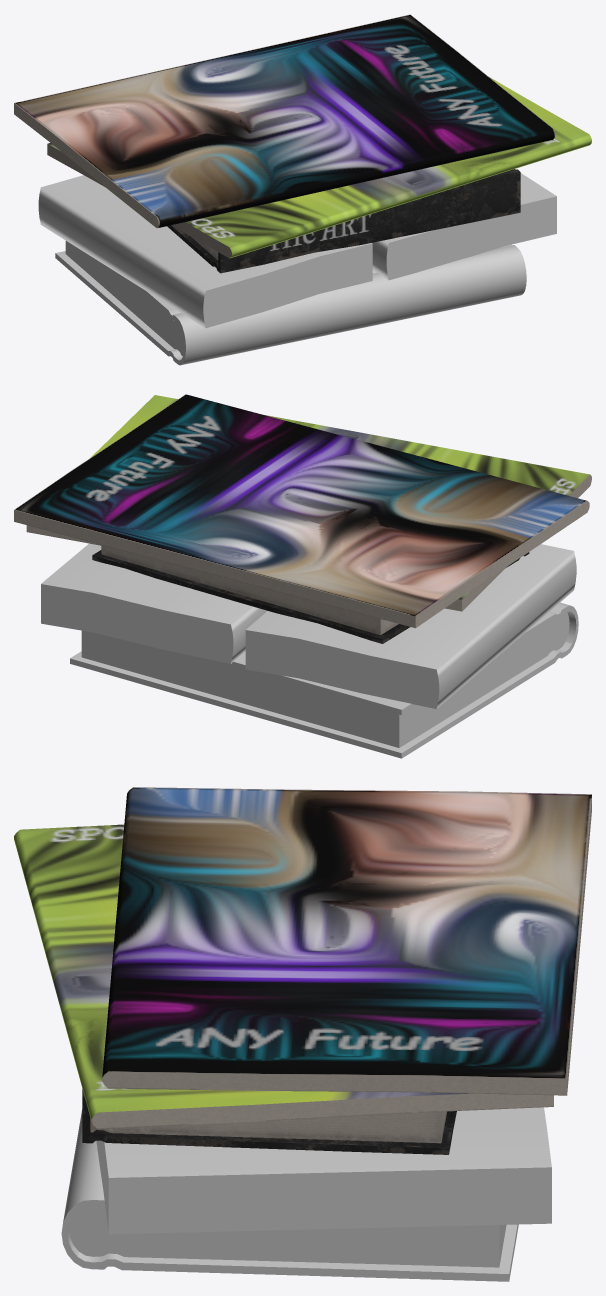
Rendered from SM_Book_Stack_04.FBX.
3 renders of one model, top to bottom at view 1: azimuth 30°, elevation 25°; view 2: azimuth 150°, elevation 25°; view 3: azimuth 270°, elevation 25°, orthographic. The views are drawn at different scales.
Parts seen in each view (by area): view 1: SM_Book_Stack_04_LOD0; view 2: SM_Book_Stack_04_LOD0; view 3: SM_Book_Stack_04_LOD0.
Part boxes in pixels (<box>): SM_Book_Stack_04_LOD0: <box>14,14,591,365</box>; SM_Book_Stack_04_LOD0: <box>14,394,591,758</box>; SM_Book_Stack_04_LOD0: <box>14,787,591,1281</box>.
Size of what is drawn, in the model's own units: 40.95 by 32.37 by 14.12.
